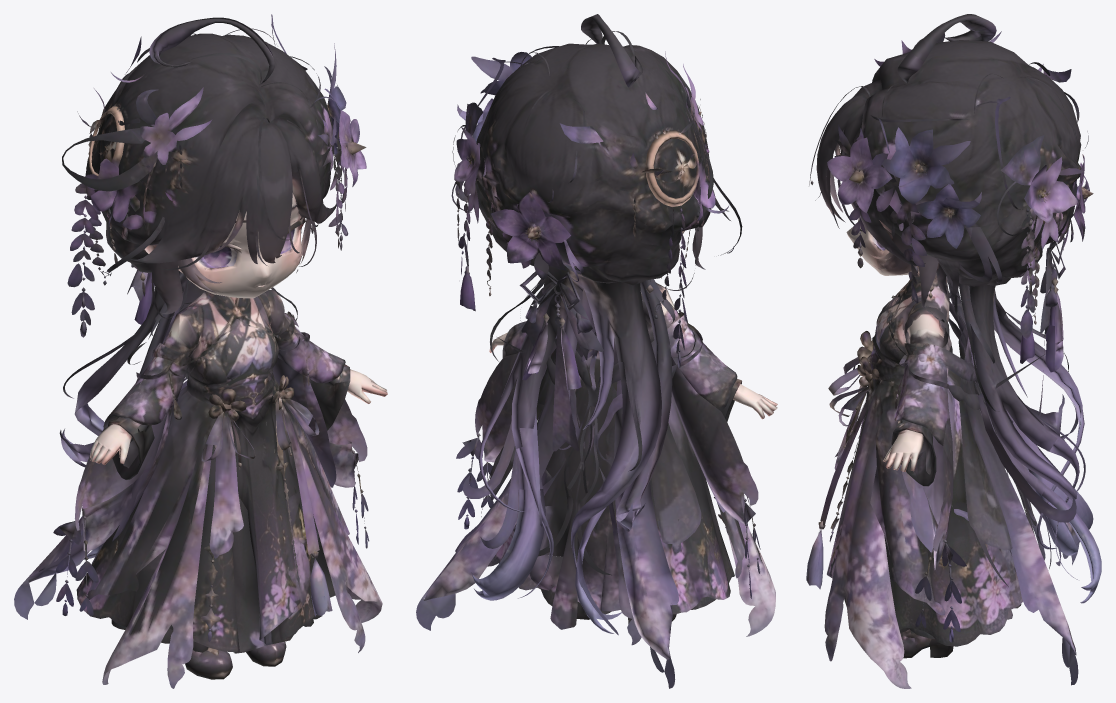
Rendered from source.glb.
The picture shows the model from 3 angles, left to right: view 1: azimuth 30°, elevation 25°; view 2: azimuth 150°, elevation 25°; view 3: azimuth 270°, elevation 25°; orthographic projection. The views are drawn at different scales.
Visible parts, largest first — view 1: tripo_part_0, tripo_part_1, tripo_part_8, tripo_part_14, tripo_part_4, tripo_part_23, tripo_part_26, tripo_part_13, tripo_part_9, tripo_part_2, tripo_part_17, tripo_part_18 (+18 smaller); view 2: tripo_part_0, tripo_part_1, tripo_part_14, tripo_part_25, tripo_part_26, tripo_part_5, tripo_part_19, tripo_part_87, tripo_part_8, tripo_part_17, tripo_part_12, tripo_part_9 (+18 smaller); view 3: tripo_part_0, tripo_part_1, tripo_part_23, tripo_part_5, tripo_part_37, tripo_part_18, tripo_part_13, tripo_part_46, tripo_part_77, tripo_part_17, tripo_part_4, tripo_part_7 (+23 smaller).
Part boxes in pixels (box(x1,y1,x2,y2)): tripo_part_0: box(59, 33, 345, 467); tripo_part_1: box(163, 291, 335, 645); tripo_part_8: box(53, 102, 355, 688); tripo_part_14: box(76, 399, 264, 653); tripo_part_4: box(56, 199, 368, 628); tripo_part_23: box(272, 174, 382, 652); tripo_part_26: box(69, 405, 173, 551); tripo_part_13: box(272, 336, 367, 487); tripo_part_9: box(103, 343, 192, 428); tripo_part_2: box(62, 85, 337, 560); tripo_part_17: box(71, 117, 348, 641); tripo_part_18: box(275, 313, 345, 383); tripo_part_0: box(456, 43, 730, 568); tripo_part_1: box(487, 267, 676, 610); tripo_part_14: box(600, 394, 734, 612); tripo_part_25: box(614, 380, 678, 688); tripo_part_26: box(534, 266, 758, 526); tripo_part_5: box(416, 103, 588, 630); tripo_part_19: box(458, 192, 686, 323); tripo_part_87: box(651, 440, 701, 553); tripo_part_8: box(642, 124, 775, 636); tripo_part_17: box(457, 208, 728, 555); tripo_part_12: box(471, 489, 545, 600); tripo_part_9: box(611, 312, 737, 411); tripo_part_0: box(816, 40, 1084, 549); tripo_part_1: box(827, 273, 1037, 646); tripo_part_23: box(824, 200, 1051, 688); tripo_part_5: box(888, 155, 1078, 685); tripo_part_37: box(870, 380, 955, 615); tripo_part_18: box(894, 343, 973, 445); tripo_part_13: box(895, 361, 953, 569); tripo_part_46: box(882, 127, 970, 204); tripo_part_77: box(963, 440, 1012, 586); tripo_part_17: box(809, 86, 1063, 568); tripo_part_4: box(818, 269, 1063, 631); tripo_part_7: box(1023, 141, 1077, 279).
Bounding box in the file's own units: 0.5066 × 1 × 0.4314.
1 material, 1 textured.
